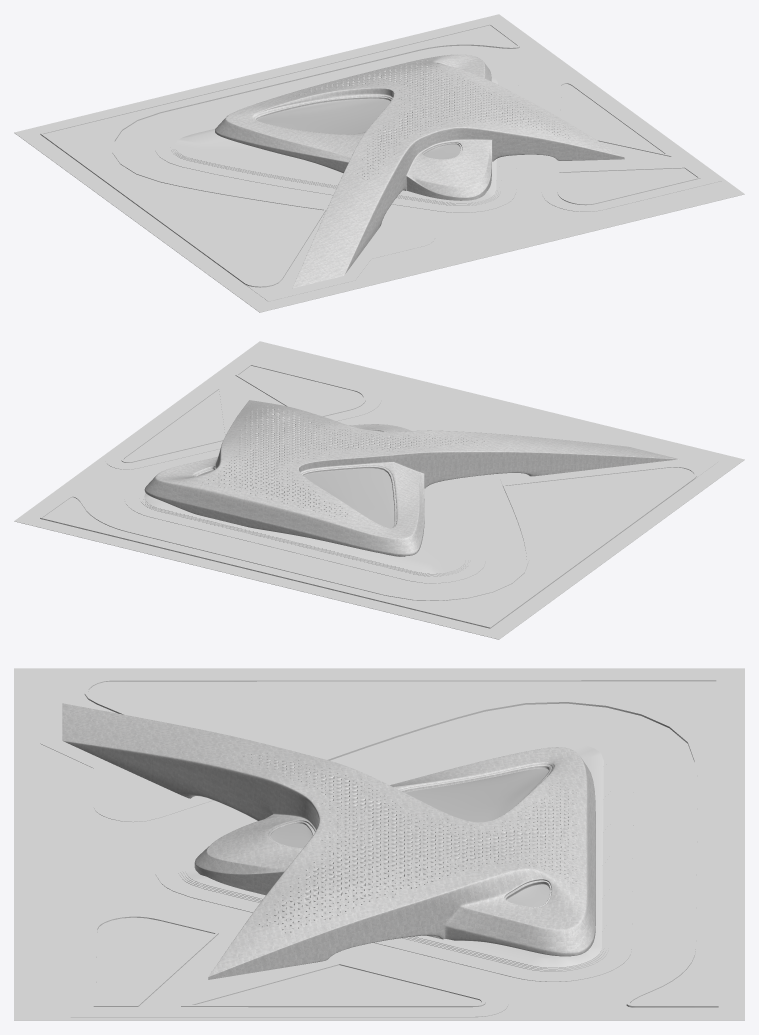
Rendered from KB3D_UTP_BldgMD_F.fbx.
The picture shows the model from 3 angles, top to bottom: view 1: azimuth 30°, elevation 25°; view 2: azimuth 150°, elevation 25°; view 3: azimuth 270°, elevation 25°; orthographic projection. The views are drawn at different scales.
Visible parts, largest first — view 1: KB3D_UTP_BldgMD_F_Main, KB3D_UTP_BldgMD_F_Base, KB3D_UTP_BldgMD_F_Pathway; view 2: KB3D_UTP_BldgMD_F_Main, KB3D_UTP_BldgMD_F_Base, KB3D_UTP_BldgMD_F_Pathway; view 3: KB3D_UTP_BldgMD_F_Main, KB3D_UTP_BldgMD_F_Base, KB3D_UTP_BldgMD_F_Pathway.
Part boxes in pixels (left/top/right/bottom): KB3D_UTP_BldgMD_F_Main: left=155, top=54, right=624, bottom=288; KB3D_UTP_BldgMD_F_Base: left=14, top=14, right=744, bottom=312; KB3D_UTP_BldgMD_F_Pathway: left=40, top=23, right=721, bottom=301; KB3D_UTP_BldgMD_F_Main: left=124, top=400, right=679, bottom=583; KB3D_UTP_BldgMD_F_Base: left=14, top=341, right=744, bottom=639; KB3D_UTP_BldgMD_F_Pathway: left=40, top=356, right=718, bottom=628; KB3D_UTP_BldgMD_F_Main: left=62, top=703, right=633, bottom=981; KB3D_UTP_BldgMD_F_Base: left=14, top=668, right=744, bottom=1020; KB3D_UTP_BldgMD_F_Pathway: left=40, top=679, right=718, bottom=1017.
Bounding box in the file's own units: 36078 × 2725 × 31674.
